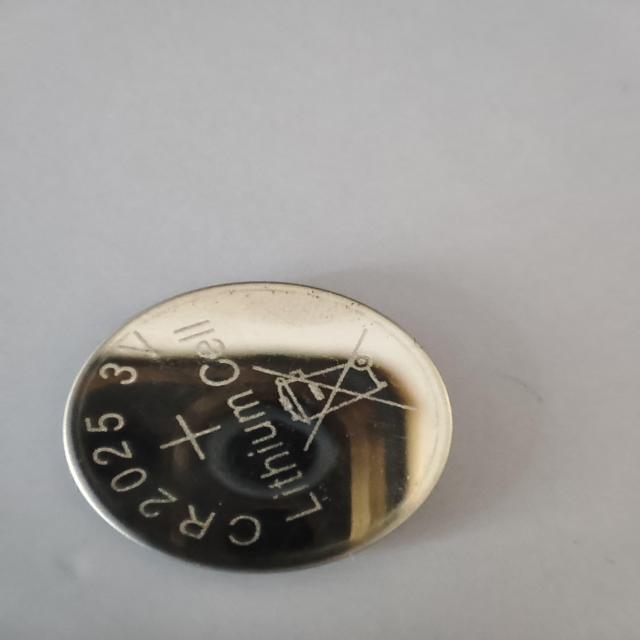COIN: (62, 280, 454, 573)
